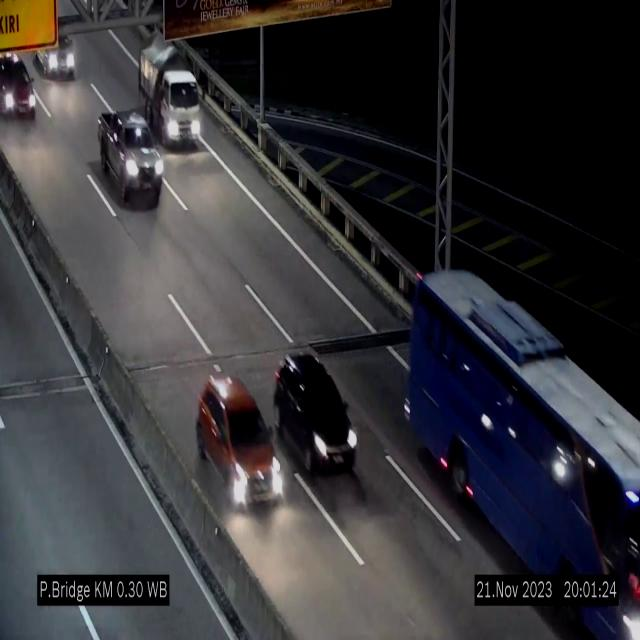Bus: (407, 265, 640, 640)
Car: (190, 372, 286, 512), (272, 348, 360, 478), (98, 110, 163, 206), (0, 38, 42, 127), (28, 22, 84, 79)
Truck: (139, 36, 202, 145)
